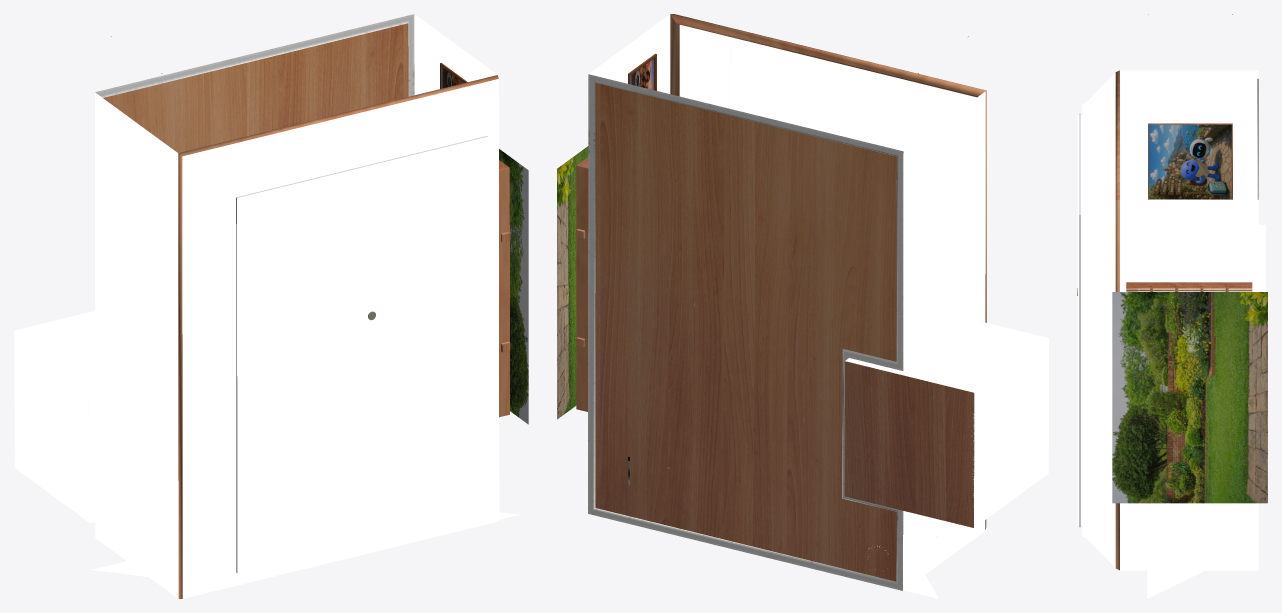
The model's file is SALA-DECORADA.fbx.
3 renders of one model, left to right at view 1: azimuth 30°, elevation 25°; view 2: azimuth 150°, elevation 25°; view 3: azimuth 270°, elevation 25°, orthographic. The views are drawn at different scales.
Visible parts, largest first — view 1: PAREDES, TECHO, PISO, FRAMES, jardin, BORDES PISO, PISO 3; view 2: PISO, PAREDES, TECHO, PISO 3, FRAMES, BORDES PISO, jardin; view 3: PAREDES, jardin, ChatGPT Image Jun 11, 2026, 05_33_38 PM, FRAMES, BORDES PISO.
Part boxes in pixels (x1=…): PAREDES: x1=14, y1=14, x2=520, y2=598; TECHO: x1=238, y1=139, x2=487, y2=571; PISO: x1=103, y1=23, x2=408, y2=153; FRAMES: x1=111, y1=36, x2=510, y2=598; jardin: x1=499, y1=149, x2=528, y2=424; BORDES PISO: x1=97, y1=16, x2=487, y2=572; PISO 3: x1=95, y1=14, x2=414, y2=97; PISO: x1=595, y1=83, x2=974, y2=581; PAREDES: x1=588, y1=14, x2=1048, y2=598; TECHO: x1=731, y1=43, x2=970, y2=151; PISO 3: x1=588, y1=74, x2=903, y2=590; FRAMES: x1=576, y1=14, x2=986, y2=529; BORDES PISO: x1=589, y1=76, x2=901, y2=588; jardin: x1=557, y1=146, x2=588, y2=419; PAREDES: x1=1077, y1=70, x2=1265, y2=598; jardin: x1=1112, y1=292, x2=1267, y2=503; ChatGPT Image Jun 11, 2026, 05_33_38 PM: x1=1149, y1=124, x2=1231, y2=199; FRAMES: x1=1115, y1=14, x2=1252, y2=570; BORDES PISO: x1=1079, y1=113, x2=1080, y2=527.
Bounding box in the file's own units: 33.18 × 38.51 × 15.15.
Materials: 22 (12 with a texture image).
